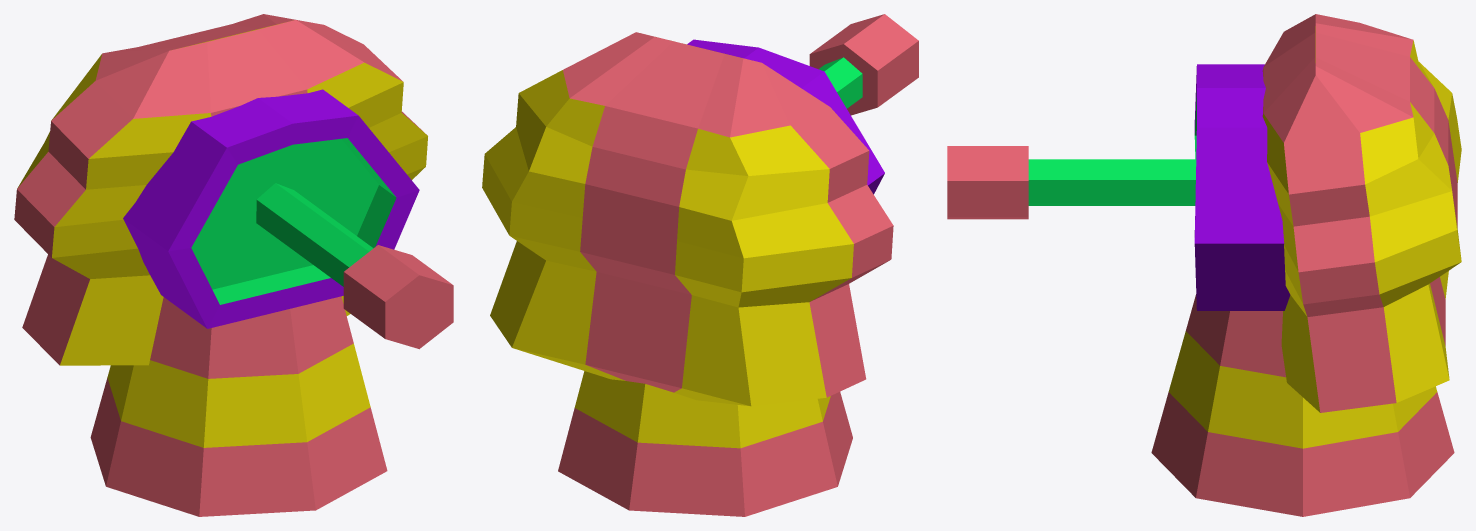
Rendered from turret-egypt.fbx.
The picture shows the model from 3 angles, left to right: view 1: azimuth 30°, elevation 25°; view 2: azimuth 150°, elevation 25°; view 3: azimuth 270°, elevation 25°; orthographic projection.
Visible parts, largest first — view 1: turret-egypt; view 2: turret-egypt; view 3: turret-egypt.
Boxes of the visible parts, <box> form: turret-egypt: <box>14,14,453,516</box>; turret-egypt: <box>482,14,918,516</box>; turret-egypt: <box>947,14,1461,516</box>.
Size of the model in its own units: 0.8433 by 0.892 by 1.02.
